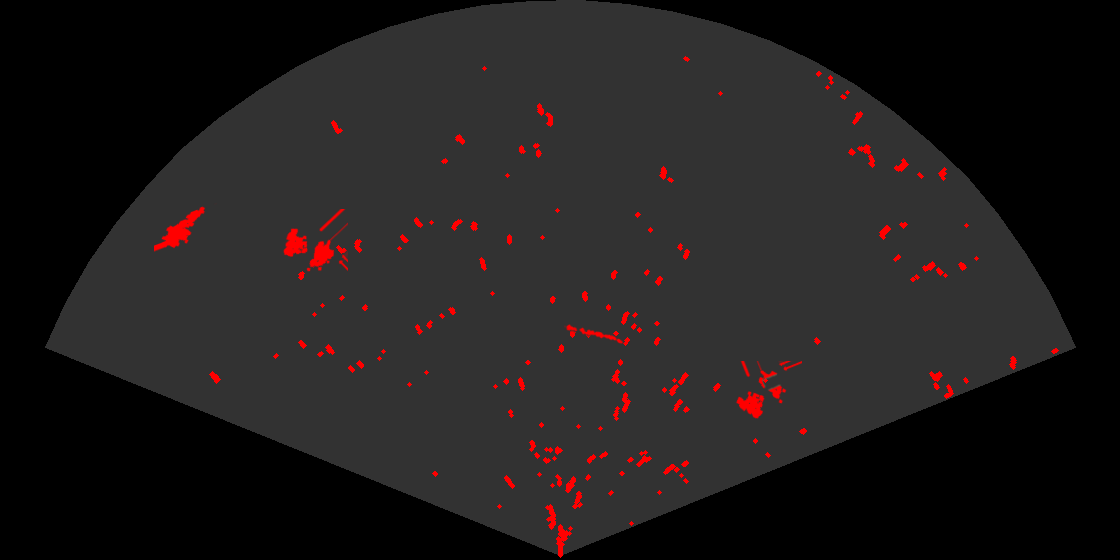cage: (282, 209, 348, 273), (734, 361, 802, 420)
chain: (564, 323, 625, 345)
frogman: (154, 203, 217, 253)
